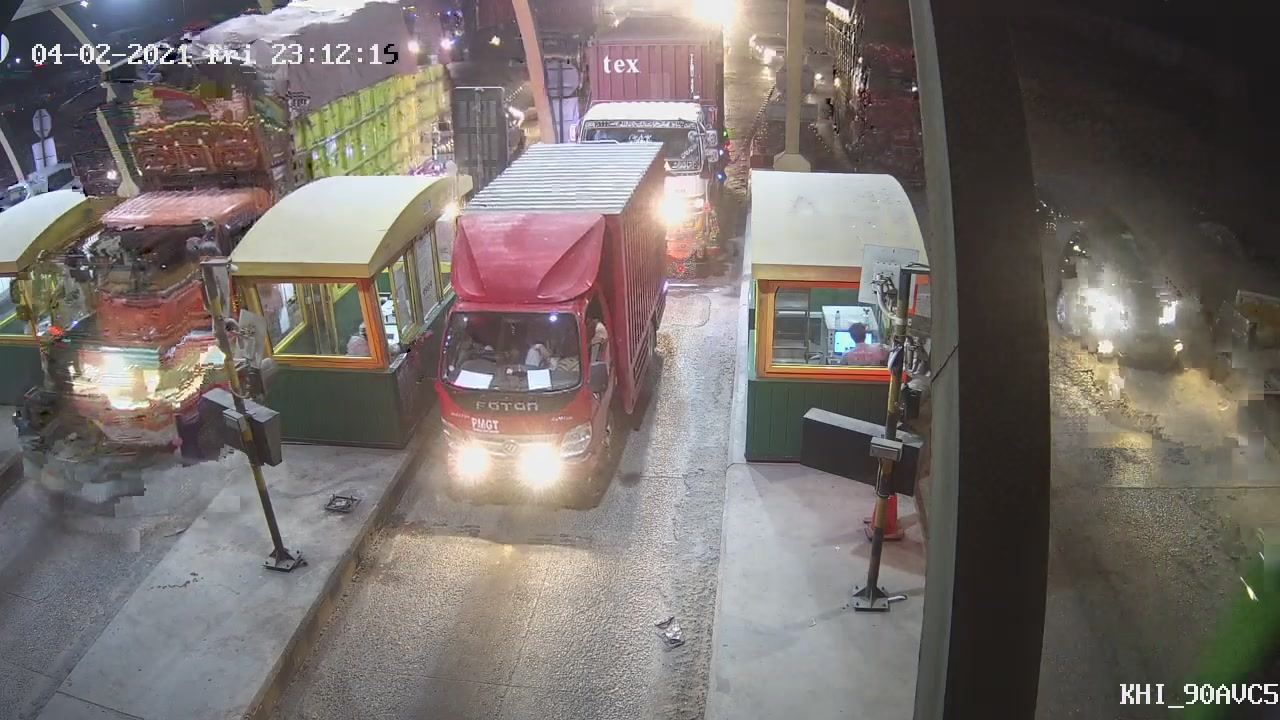F3: (429, 170, 656, 510)
